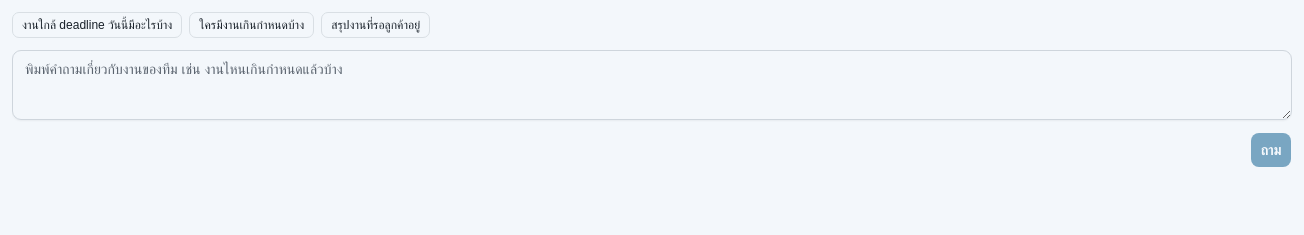
it: QaClient › shows the disabled message when AI is not configured
The image size is (1304, 235).
Type "อะไรดี" into the text box labelled "คำถามเกี่ยวกับงาน" at (652, 85), box [12,50,1292,120]
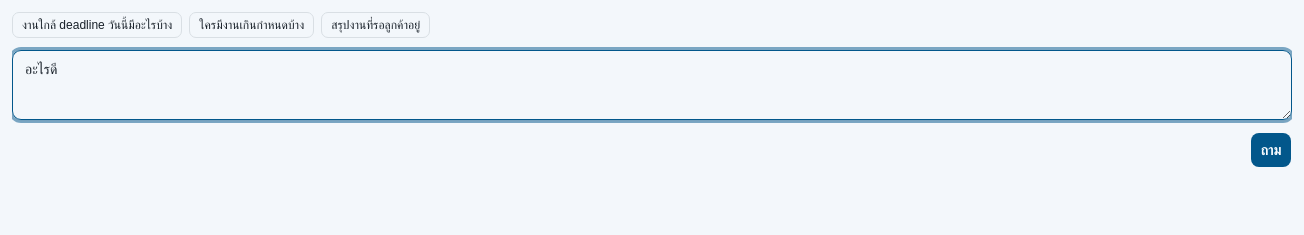
Click the button "ถาม" at (1271, 150), box [1250,132,1292,168]
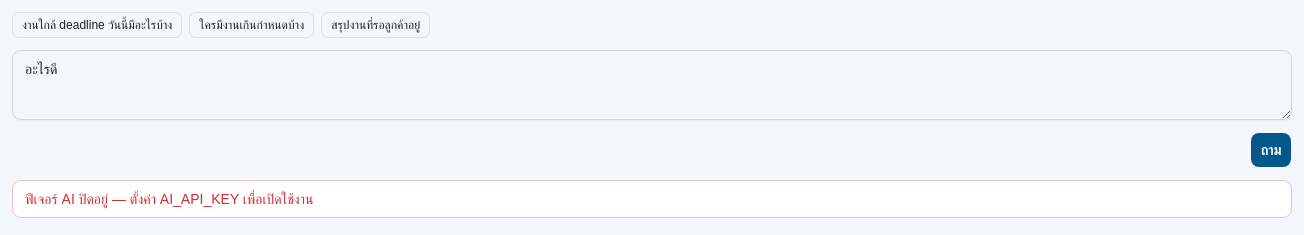
Check: the message reads "ฟีเจอร์ AI ปิดอยู่ — ตั้งค่า AI_API_KEY เพื่อเปิดใช้งาน", box [25,191,313,207]
